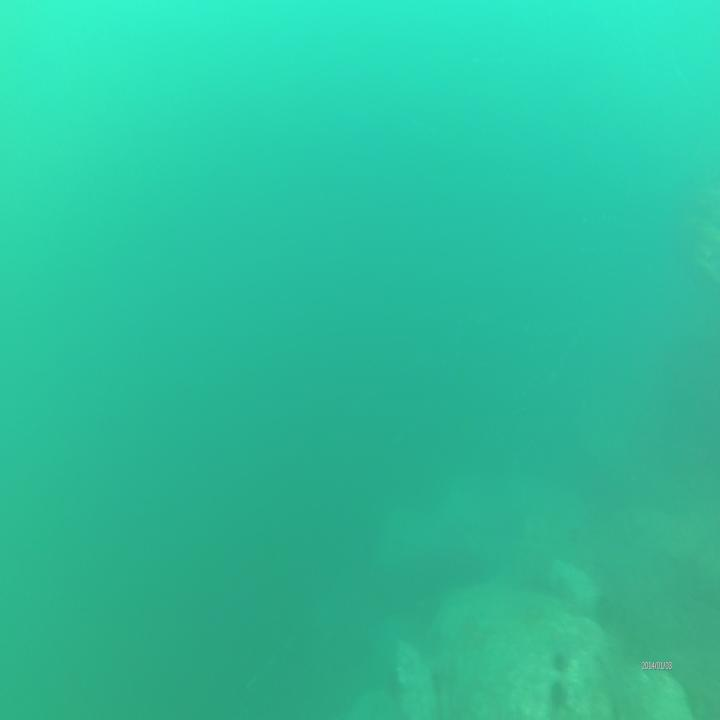echinus: (594, 590, 614, 628), (549, 678, 567, 710), (550, 647, 568, 672)
